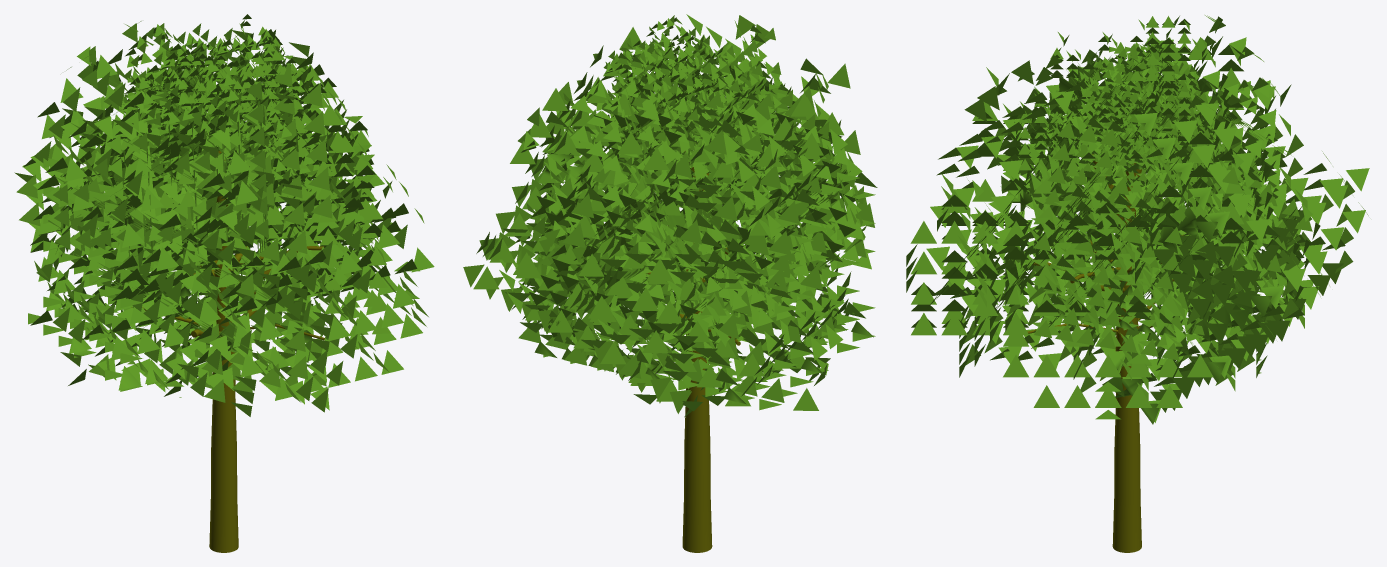
File: copacul.obj
3 renders of one model, left to right at view 1: azimuth 30°, elevation 25°; view 2: azimuth 150°, elevation 25°; view 3: azimuth 270°, elevation 25°, orthographic.
Parts seen in each view (by area): view 1: Mesh4570 Tree1 TREE_1_1 Model, Mesh3052 Leaves3 Tree1 TREE_1_1 Model, Mesh3406 Leaves3 Tree1 TREE_1_1 Model; view 2: Mesh4570 Tree1 TREE_1_1 Model, Mesh1529 Leaves2 Tree1 TREE_1_1 Model, Mesh3052 Leaves3 Tree1 TREE_1_1 Model; view 3: Mesh1529 Leaves2 Tree1 TREE_1_1 Model, Mesh4570 Tree1 TREE_1_1 Model, Mesh1961 Leaves2 Tree1 TREE_1_1 Model, Mesh1883 Leaves2 Tree1 TREE_1_1 Model, Mesh3484 Leaves3 Tree1 TREE_1_1 Model.
Boxes of the visible parts, x1,y1,x2,y2 form: Mesh4570 Tree1 TREE_1_1 Model: [209, 150, 238, 552]; Mesh3052 Leaves3 Tree1 TREE_1_1 Model: [46, 289, 189, 340]; Mesh3406 Leaves3 Tree1 TREE_1_1 Model: [138, 353, 191, 389]; Mesh4570 Tree1 TREE_1_1 Model: [682, 151, 712, 552]; Mesh1529 Leaves2 Tree1 TREE_1_1 Model: [476, 152, 606, 286]; Mesh3052 Leaves3 Tree1 TREE_1_1 Model: [644, 335, 788, 404]; Mesh1529 Leaves2 Tree1 TREE_1_1 Model: [1137, 205, 1283, 344]; Mesh4570 Tree1 TREE_1_1 Model: [1092, 154, 1141, 552]; Mesh1961 Leaves2 Tree1 TREE_1_1 Model: [1016, 147, 1128, 242]; Mesh1883 Leaves2 Tree1 TREE_1_1 Model: [1100, 351, 1156, 397]; Mesh3484 Leaves3 Tree1 TREE_1_1 Model: [1036, 273, 1144, 327].
Bounding box in the file's own units: 3.03 × 4.24 × 3.5.
